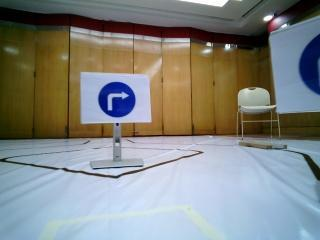right: (83, 72, 149, 123)
